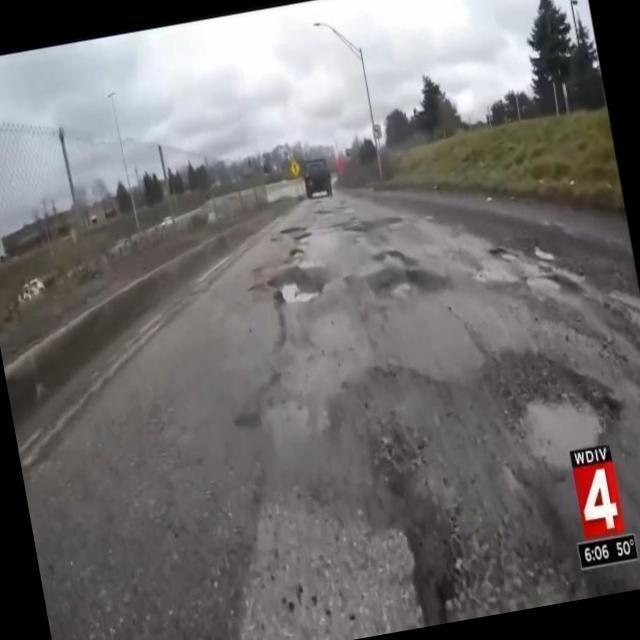Pothole: (500, 372, 604, 477), (374, 268, 422, 304), (274, 271, 320, 302)
